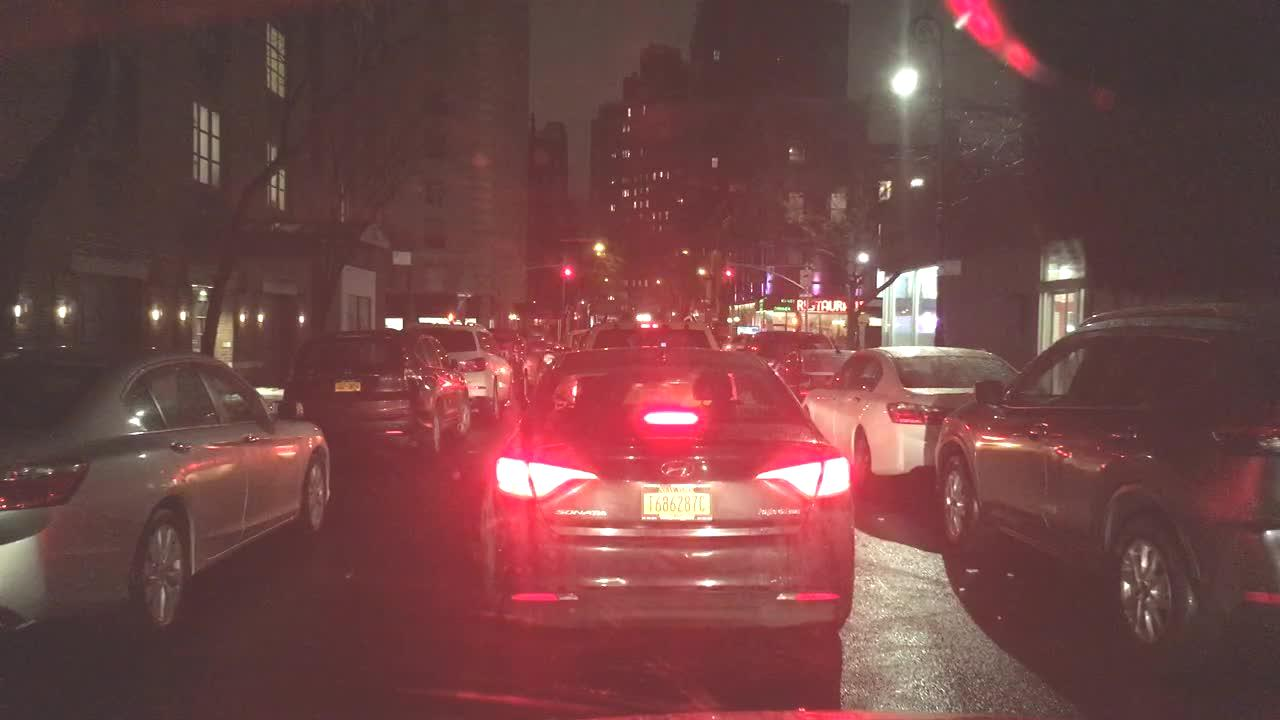Hyundai: (646, 448, 708, 486)
